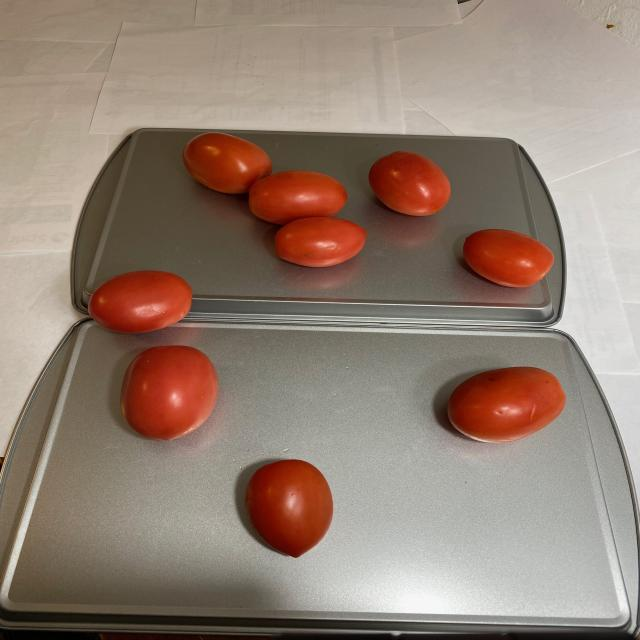tomato: (180, 133, 557, 285), (87, 270, 229, 443), (240, 458, 340, 563), (442, 365, 571, 441)
